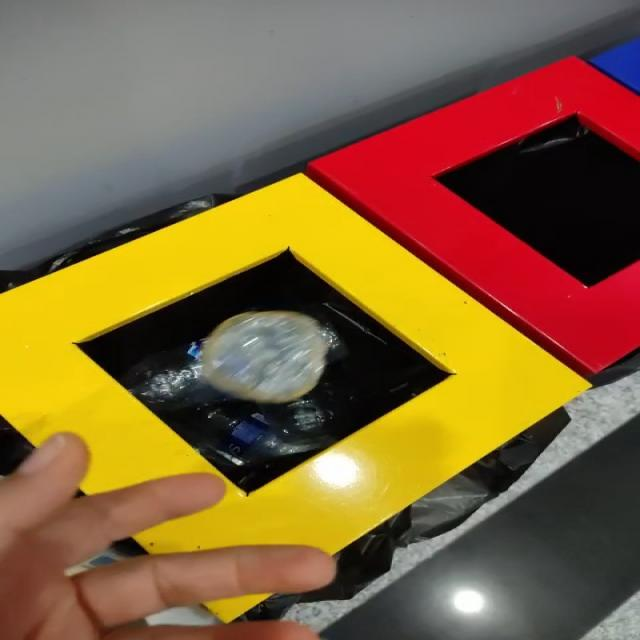plastic: (123, 311, 348, 412), (215, 402, 337, 466)
